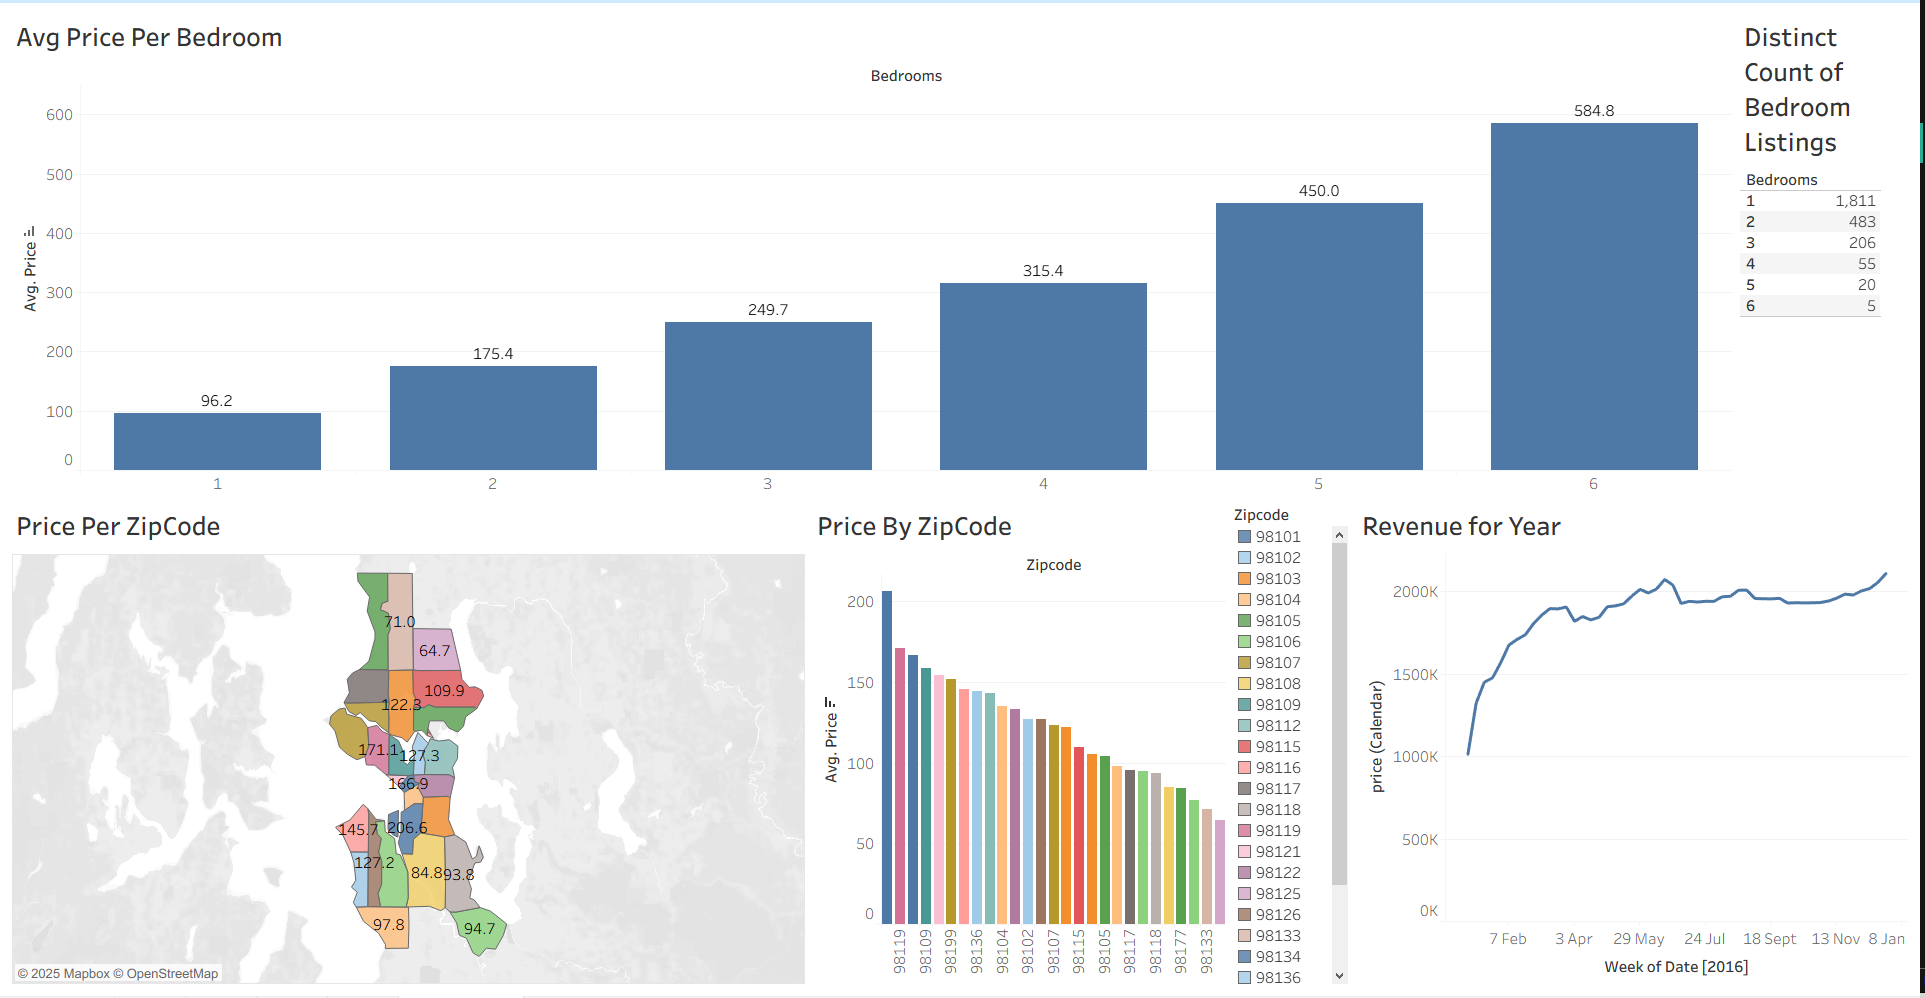

What the dashboard file says about the page in this screenshot:
{"tool":"tableau","page":{"name":"Dashboard 1","canvas":[1000,1000],"units":"permille","ordinal":0},"visuals":[{"type":"worksheet","title":"Sheet 4","mark":"Automatic","rows":["price"],"cols":["bedrooms"],"box":[4.8,9.5,898.6,490.5]},{"type":"worksheet","title":"Sheet 5","mark":"Automatic","rows":["bedrooms"],"box":[903.4,9.5,91.7,490.5]},{"type":"worksheet","title":"Sheet 2","mark":"Multipolygon","box":[4.8,500,416.6,490.5]},{"type":"worksheet","title":"Price by Code","mark":"Automatic","rows":["price"],"cols":["zipcode"],"box":[421.4,500,219.2,490.5]},{"type":"legend","title":"Sheet 2","param":"[federated.0ygkhy70botp5q1a1dedh0ilch7h].[none:zipcode:ok]","box":[640.6,500,64.3,490.5]},{"type":"worksheet","title":"Sheet 3","mark":"Automatic","rows":["price (Calendar)"],"cols":["date"],"box":[704.9,500,290.3,490.5]}]}

Visuals, with their boxes on the dashboard's canvas, which has no fixed pixel size, in thousandths of its width and height (x1, y1, x2, y2). These are canvas units, not pixel positions in the 1925x998 screenshot, which may show the page scaled, cropped or inside an application window:
"Sheet 4" worksheet: left=5, top=10, right=903, bottom=500
"Sheet 5" worksheet: left=903, top=10, right=995, bottom=500
"Sheet 2" worksheet (Multipolygon marks): left=5, top=500, right=421, bottom=990
"Price by Code" worksheet: left=421, top=500, right=641, bottom=990
"Sheet 2" legend: left=641, top=500, right=705, bottom=990
"Sheet 3" worksheet: left=705, top=500, right=995, bottom=990
